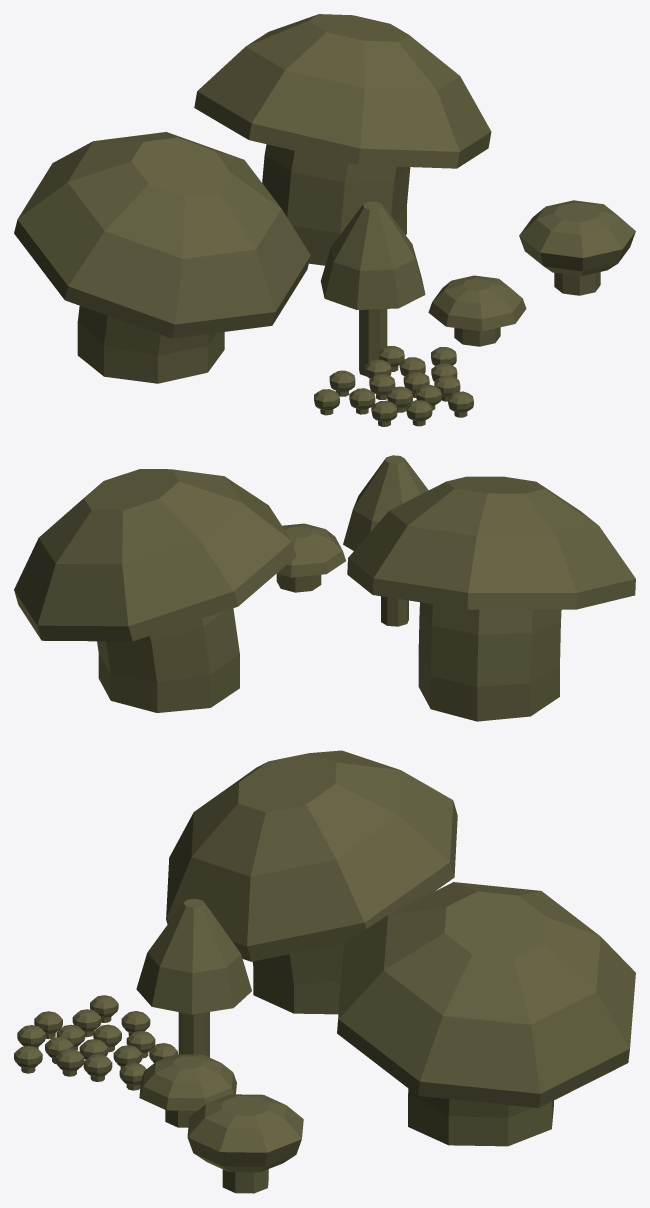
File: object115_mashrooms_0_lev1.glb
3 renders of one model, top to bottom at view 1: azimuth 30°, elevation 25°; view 2: azimuth 150°, elevation 25°; view 3: azimuth 270°, elevation 25°, orthographic. The views are drawn at different scales.
Visible parts, largest first — view 1: object115_mashrooms_0_lev1; view 2: object115_mashrooms_0_lev1; view 3: object115_mashrooms_0_lev1.
Part boxes in pixels (x1=…): object115_mashrooms_0_lev1: x1=14, y1=14, x2=635, y2=426; object115_mashrooms_0_lev1: x1=14, y1=455, x2=635, y2=721; object115_mashrooms_0_lev1: x1=14, y1=750, x2=635, y2=1193.
Bounding box in the file's own units: 0.4821 × 0.1827 × 0.4438.
